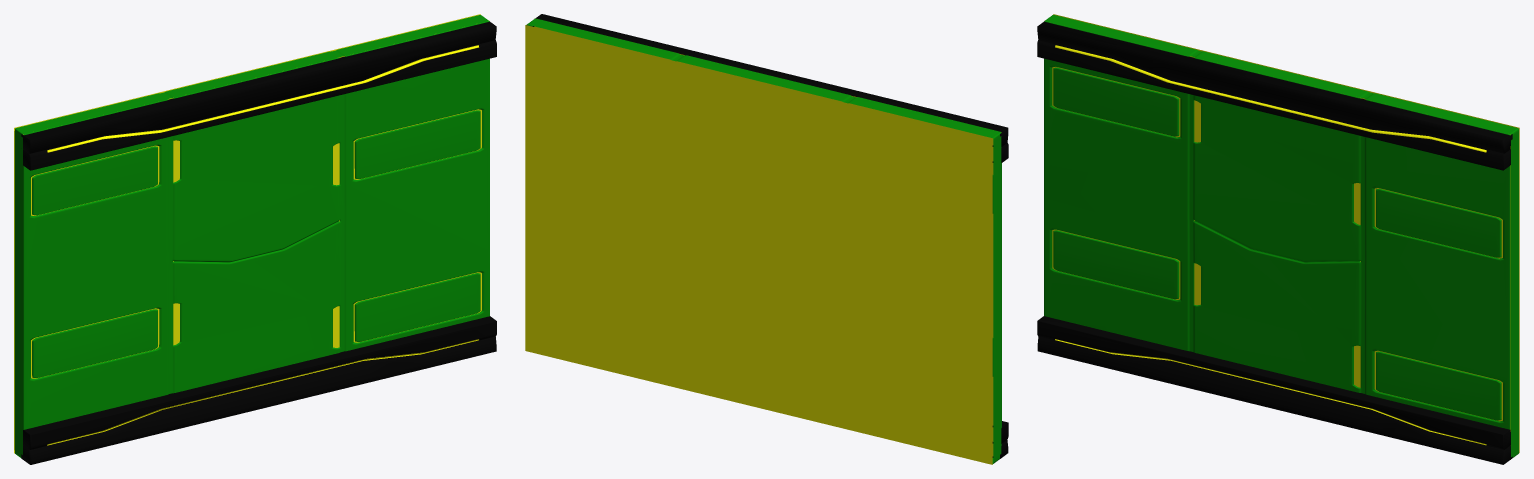
The model's file is Wall_black_green_low_poly.fbx.
3 renders of one model, left to right at view 1: azimuth 30°, elevation 25°; view 2: azimuth 150°, elevation 25°; view 3: azimuth 330°, elevation 25°, orthographic.
Visible parts, largest first — view 1: L_1, S_4_1.001, S_4_1, S_4, S_4.001, Wall, S_4_L.001, S_4_L; view 2: Wall, L_1, S_4_1.001; view 3: L_1, S_4_1.001, S_4_1, S_4, S_4.001, Wall, S_4_L.001, S_4_L.
Boxes of the visible parts, x1,y1,x2,y2 form: L_1: (14, 15, 489, 457); S_4_1.001: (21, 21, 496, 153); S_4_1: (21, 336, 496, 464); S_4: (23, 316, 496, 449); S_4.001: (23, 40, 496, 170); Wall: (14, 14, 489, 453); S_4_L.001: (47, 45, 478, 152); S_4_L: (47, 339, 478, 445); Wall: (525, 18, 1001, 464); L_1: (526, 18, 1001, 463); S_4_1.001: (532, 14, 1008, 146); L_1: (1044, 15, 1518, 457); S_4_1.001: (1037, 21, 1512, 153); S_4_1: (1037, 336, 1512, 464); S_4: (1037, 316, 1510, 449); S_4.001: (1037, 40, 1510, 170); Wall: (1044, 14, 1519, 452); S_4_L.001: (1055, 45, 1486, 152); S_4_L: (1055, 339, 1486, 445).
Bounding box in the file's own units: 600 × 400 × 36.25.
